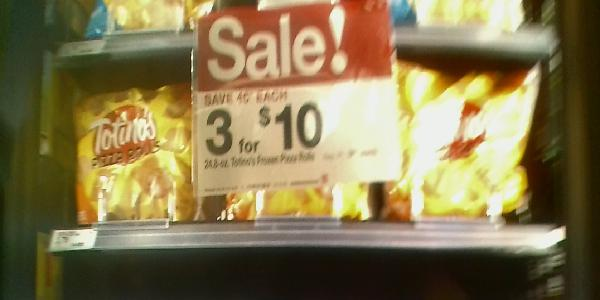icecream: (194, 50, 373, 222), (380, 51, 543, 229), (63, 82, 200, 224)
